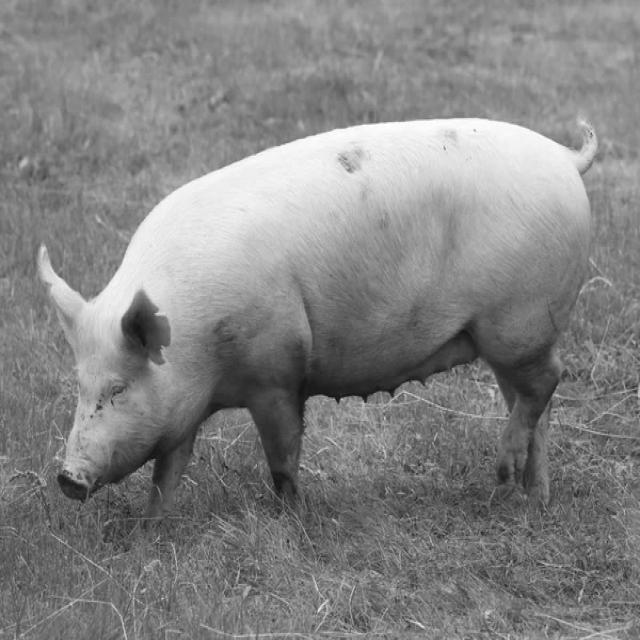Animal: (41, 119, 595, 523)
